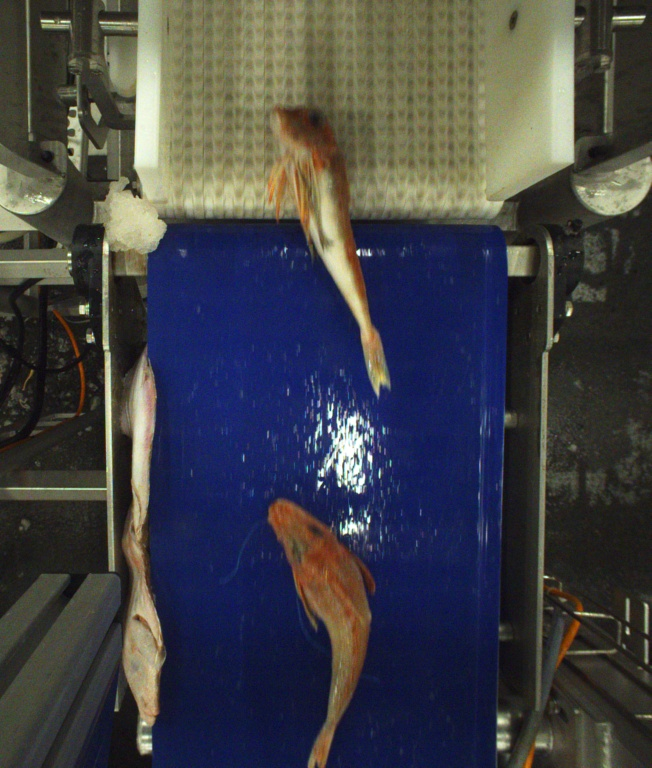GUU: (267, 501, 374, 768)
